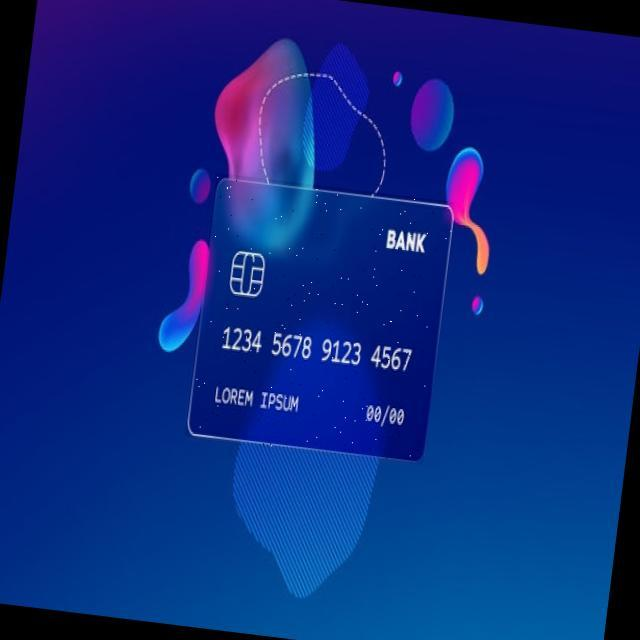payment_card: (185, 175, 455, 462)
